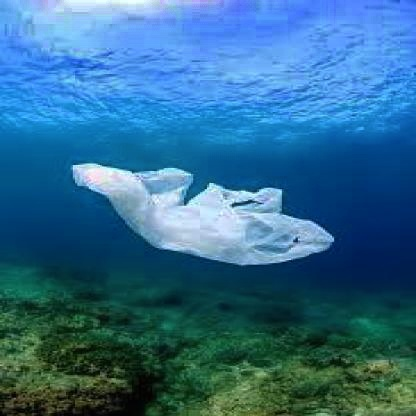pbag: (68, 160, 336, 268)
